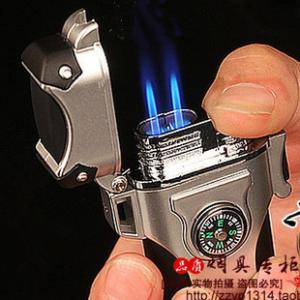fire: (139, 61, 203, 144)
